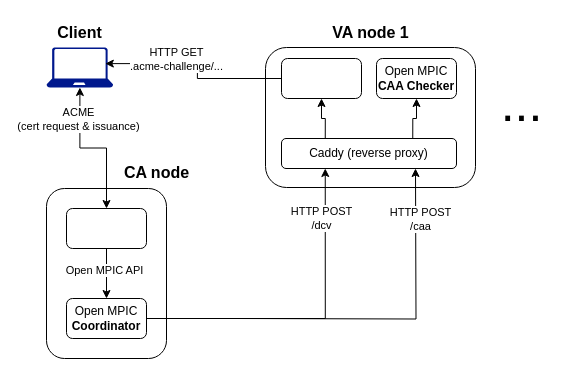
Some shapes in this 574 by 376 pixel diagram are drawn without their labels. The shapes that lost their labels are listed below. From the top down, each one's centre as x and y in pixels, then its label:
At (x=321, y=78): "Open MPIC DCV Checker".
At (x=106, y=228): "step-ca".
